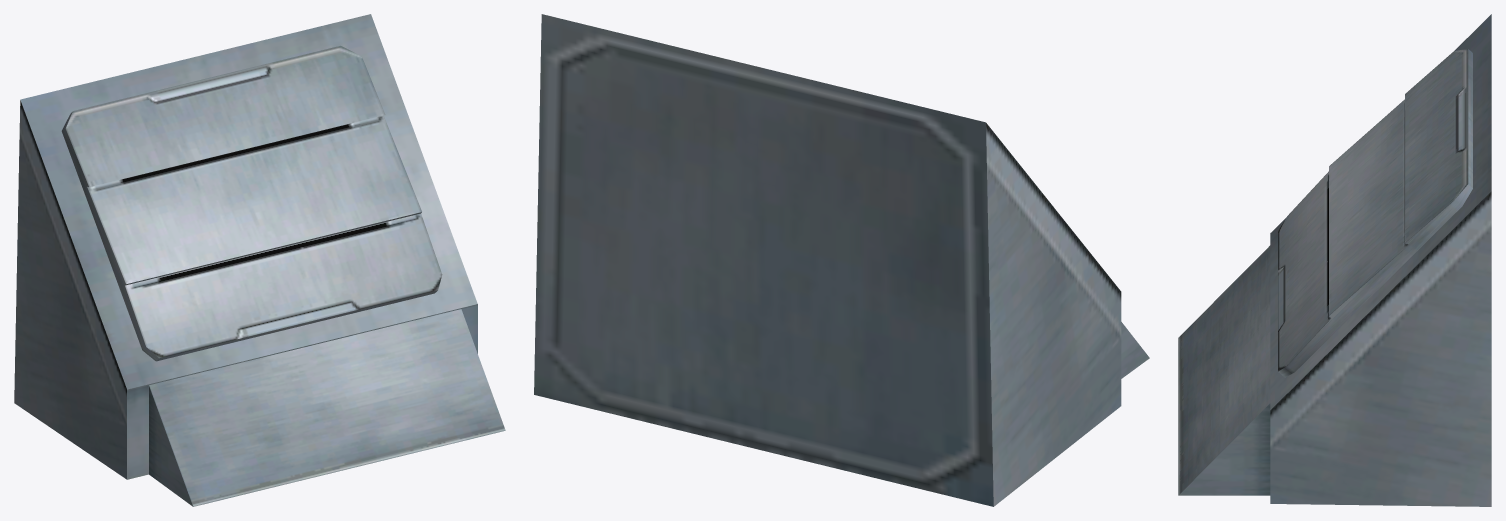
File: frn_all_tech_chest_s01_l0.fbx
3 renders of one model, left to right at view 1: azimuth 30°, elevation 25°; view 2: azimuth 150°, elevation 25°; view 3: azimuth 270°, elevation 25°, orthographic. The views are drawn at different scales.
Parts seen in each view (by area): view 1: mesh_node; view 2: mesh_node; view 3: mesh_node.
Part boxes in pixels (left/top/right/bottom): mesh_node: left=14, top=14, right=505, bottom=506; mesh_node: left=534, top=14, right=1149, bottom=506; mesh_node: left=1178, top=14, right=1491, bottom=506.
Size of the model in its own units: 0.9426 by 0.7499 by 0.6803.
